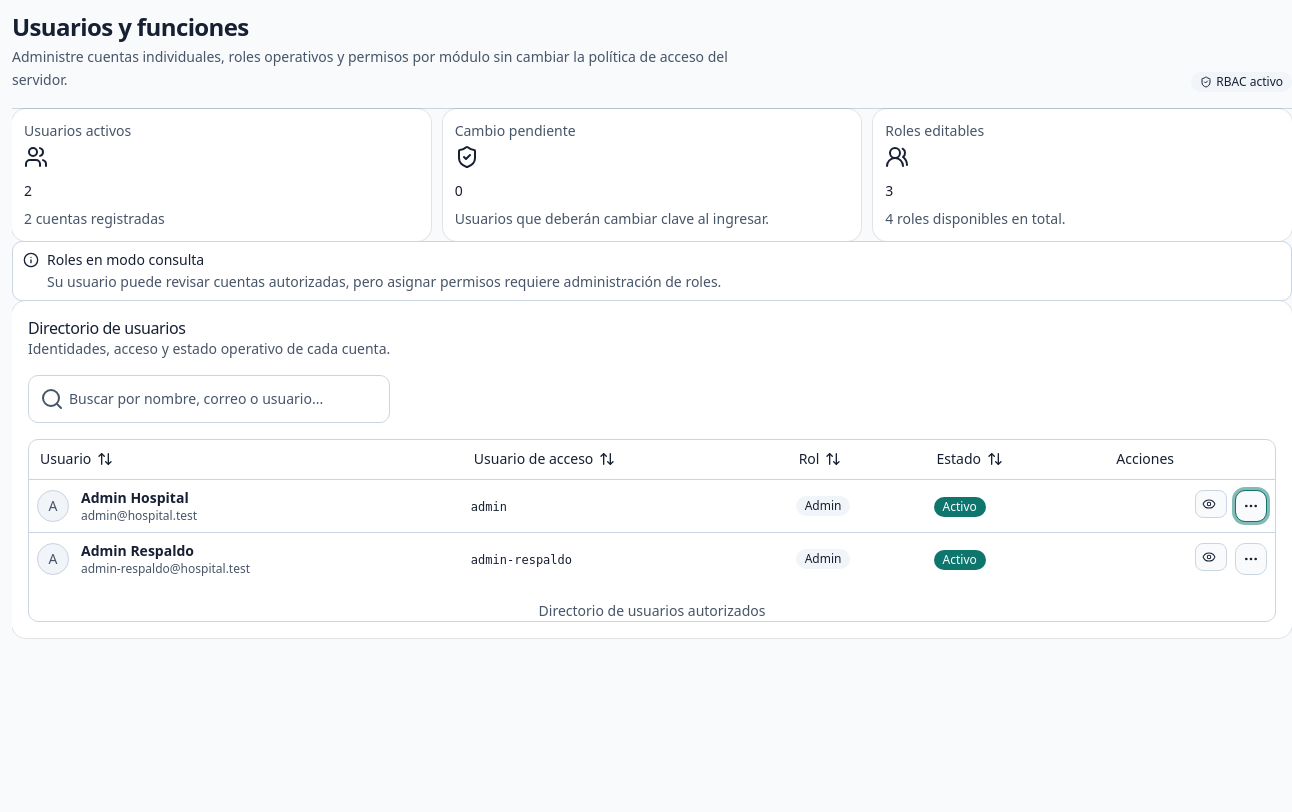
Test case: UsersView › groups per-user mutation actions in a single action menu
Click the button named "Acciones de usuario Admin Hospital". click: (1251, 506)
box: [1235,490,1267,522]
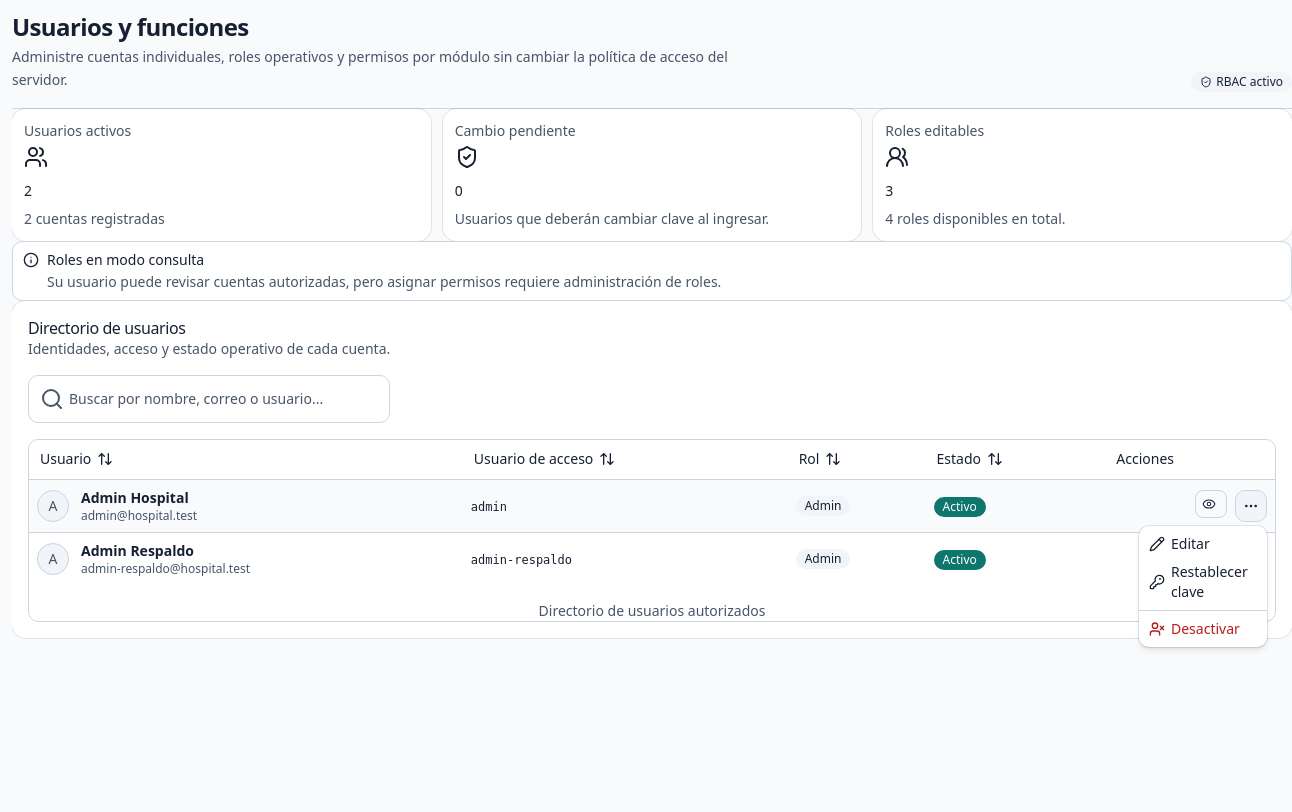
Expected: the menu item "Editar" is shown, [1149,534,1210,553]
Expected: the menu item "Restablecer clave" is shown, [1149,562,1248,601]
Expected: the menu item "Desactivar" is shown, [1149,619,1240,638]
